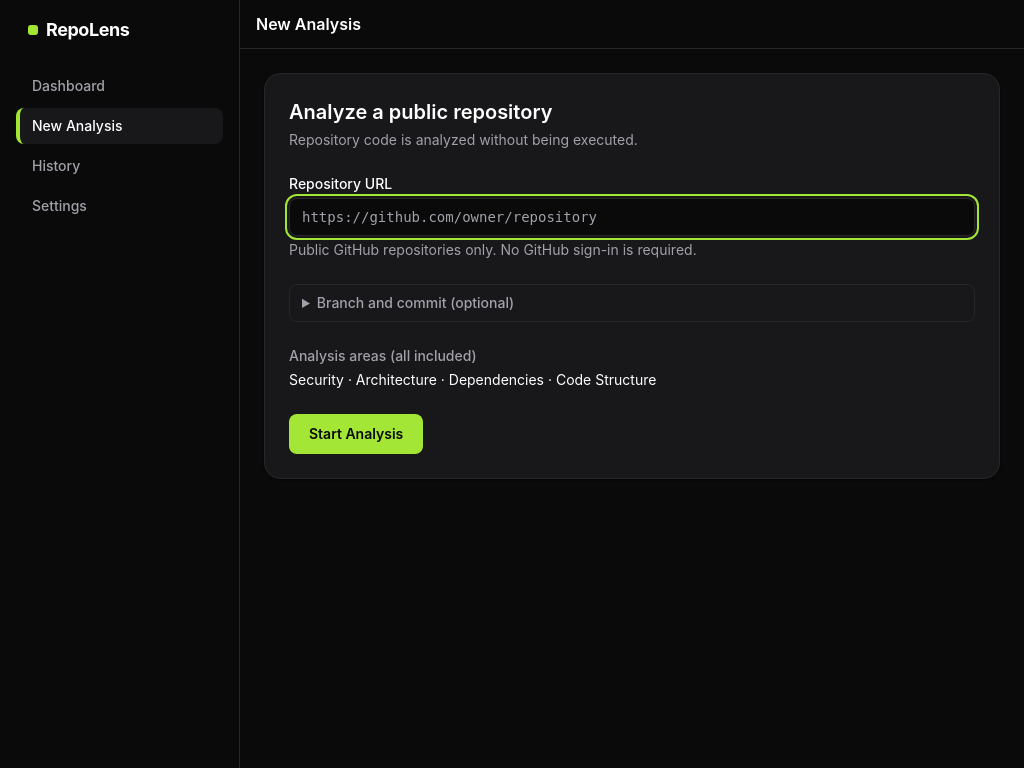
Test: New Analysis form › maps server INVALID_URL to the URL field and preserves input
Type "https://github.com/acme/web" into the field labelled "Repository URL". click: (632, 217)
box: x1=289 y1=198 x2=975 y2=236
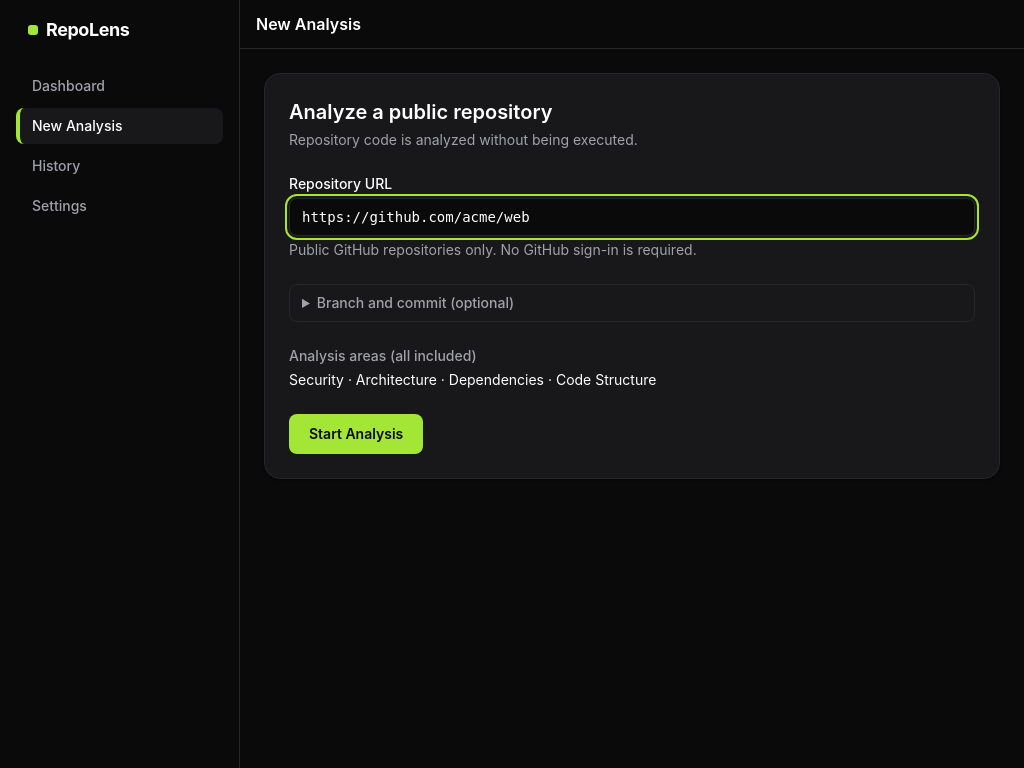
Click the button "Start Analysis". click: (356, 434)
box: x1=289 y1=414 x2=423 y2=454
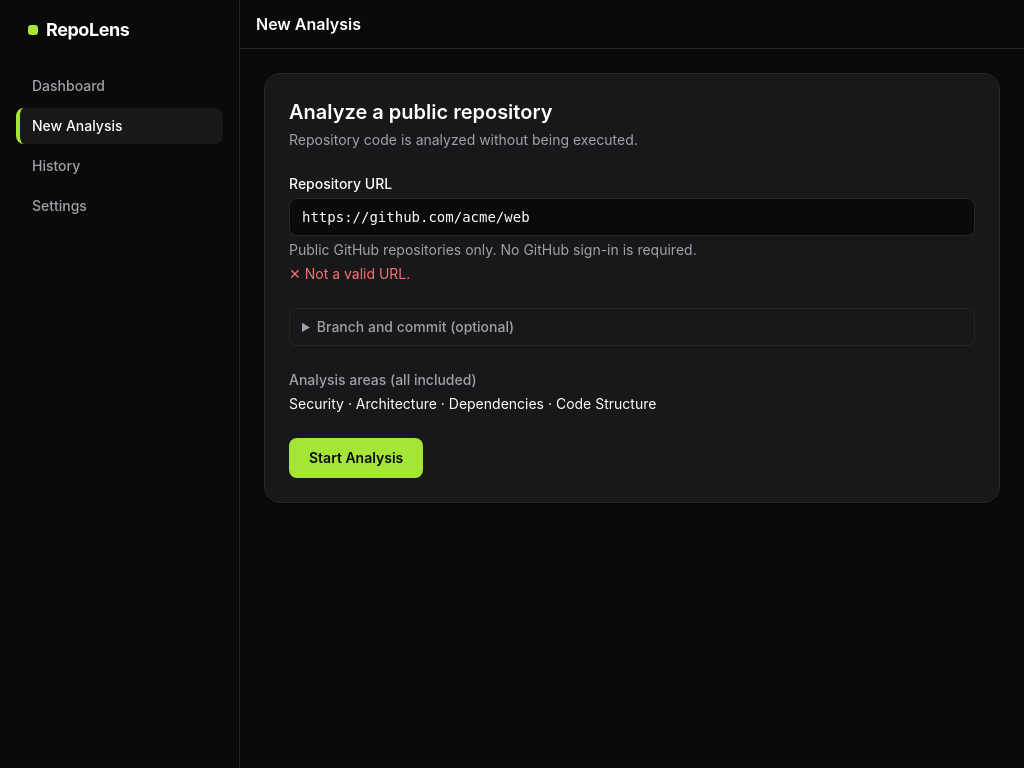
Check: the message shows "Not a valid URL.", box x1=305 y1=265 x2=410 y2=282
